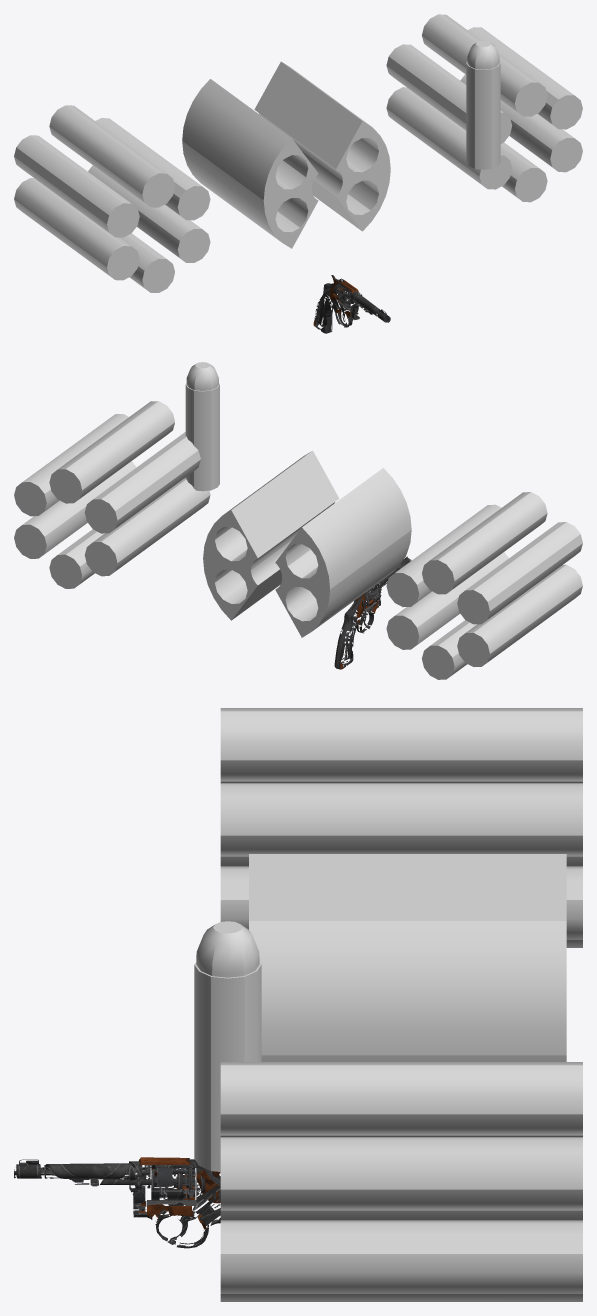
The picture shows the model from 3 angles, top to bottom: view 1: azimuth 30°, elevation 25°; view 2: azimuth 150°, elevation 25°; view 3: azimuth 270°, elevation 25°; orthographic projection. The views are drawn at different scales.
Parts seen in each view (by area): view 1: Cylinder.006, Cylinder.005, Cylinder.004, Cylinder.009, Plane.004; view 2: Cylinder.006, Cylinder.005, Cylinder.004, Cylinder.009, Plane.004; view 3: Cylinder.004, Cylinder.006, Cylinder.005, Cylinder.009, Plane.004, Cylinder.
Boxes of the visible parts, x1,y1,x2,y2 form: Cylinder.006: (182, 61, 390, 248); Cylinder.005: (14, 105, 210, 292); Cylinder.004: (386, 14, 582, 202); Cylinder.009: (466, 40, 500, 169); Plane.004: (313, 278, 390, 333); Cylinder.006: (203, 450, 411, 637); Cylinder.005: (386, 492, 582, 679); Cylinder.004: (14, 401, 210, 588); Cylinder.009: (185, 362, 219, 491); Plane.004: (334, 556, 411, 669); Cylinder.004: (220, 1062, 582, 1301); Cylinder.006: (249, 854, 566, 1061); Cylinder.005: (220, 708, 582, 947); Cylinder.009: (194, 921, 261, 1171); Plane.004: (14, 1157, 220, 1248); Cylinder: (151, 1165, 195, 1200).
Size of the model in its own units: 242 by 125 by 129.
